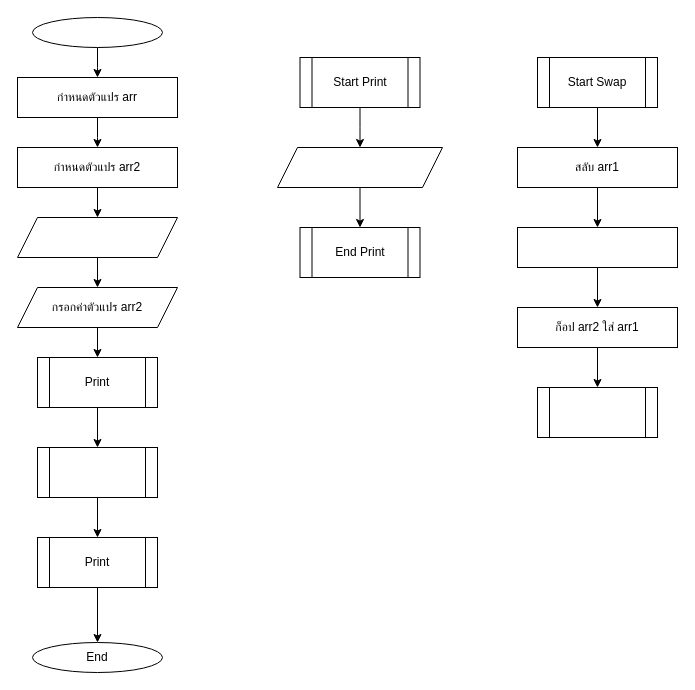
The diagram is 695 pixels wide and 690 high, and some of its shapes have lost their labels. The centre of each missing label's shape, as x and y in pixels:
End Swap: the point at 597,412
Start: the point at 97,32
Swap: the point at 97,472
กรอกค่าตัวแปร arr: the point at 97,237
ปริ้นค่า age1: the point at 359,167
เก็บค่าที่สลับไว้ใน arr2: the point at 597,247
